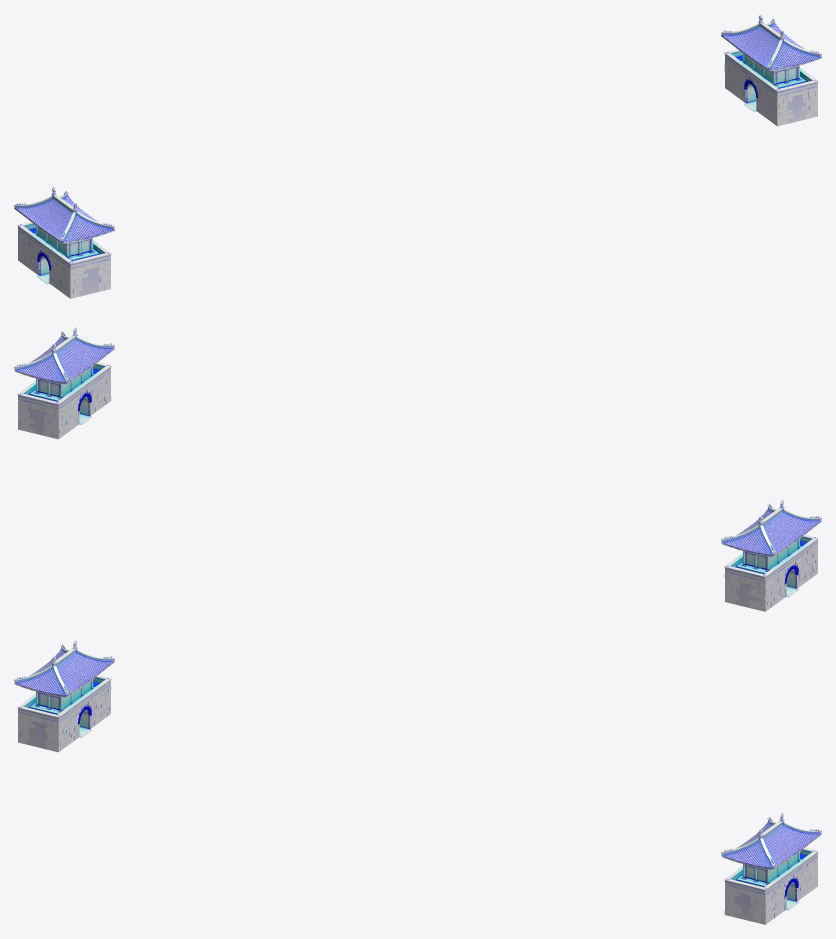
The model's file is NMJ_GJJ_Gates.fbx.
The picture shows the model from 3 angles, top to bottom: view 1: azimuth 30°, elevation 25°; view 2: azimuth 150°, elevation 25°; view 3: azimuth 330°, elevation 25°; orthographic projection.
Visible parts, largest first — view 1: 궁문_석축돌, 궁문_수키와, 궁문_암키와, 궁문_여장전돌, 궁문_판문, 궁문_양성, 궁문_붉은칠; view 2: 궁문_석축돌, 궁문_수키와, 궁문_암키와, 궁문_여장전돌, 궁문_판문, 궁문_양성, 궁문_붉은칠; view 3: 궁문_석축돌, 궁문_수키와, 궁문_암키와, 궁문_여장전돌, 궁문_판문, 궁문_양성, 궁문_붉은칠.
Part boxes in pixels (<box>): 궁문_석축돌: <box>18,55,817,298</box>; 궁문_수키와: <box>14,18,821,242</box>; 궁문_암키와: <box>16,23,821,264</box>; 궁문_여장전돌: <box>18,51,817,269</box>; 궁문_판문: <box>38,55,797,256</box>; 궁문_양성: <box>14,21,821,240</box>; 궁문_붉은칠: <box>36,53,799,257</box>; 궁문_석축돌: <box>18,368,817,611</box>; 궁문_수키와: <box>14,331,821,555</box>; 궁문_암키와: <box>14,336,820,577</box>; 궁문_여장전돌: <box>18,364,817,582</box>; 궁문_판문: <box>38,368,797,569</box>; 궁문_양성: <box>14,334,821,553</box>; 궁문_붉은칠: <box>36,366,799,570</box>; 궁문_석축돌: <box>18,681,817,924</box>; 궁문_수키와: <box>14,644,821,868</box>; 궁문_암키와: <box>14,649,820,890</box>; 궁문_여장전돌: <box>18,677,817,895</box>; 궁문_판문: <box>38,681,797,882</box>; 궁문_양성: <box>14,647,821,866</box>; 궁문_붉은칠: <box>36,679,799,883</box>.
Size of the model in its own units: 151 by 15.14 by 18.24.
